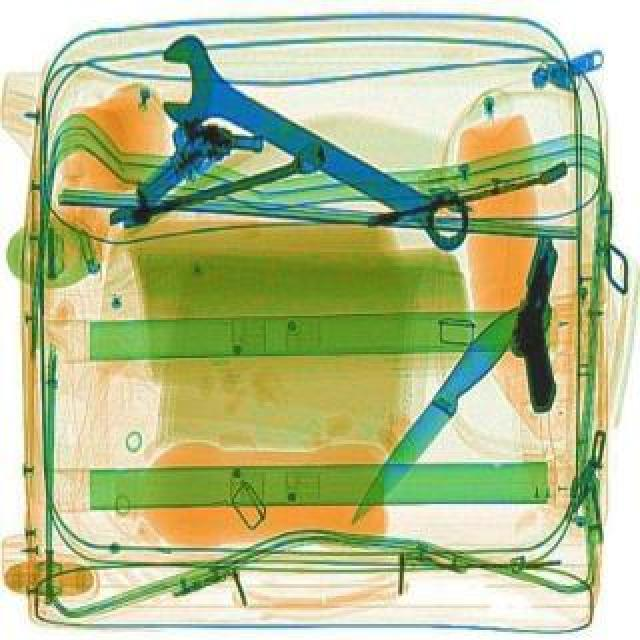gun: (114, 88, 270, 232), (490, 230, 598, 410)
knife: (336, 290, 536, 526)
scissors: (134, 26, 494, 262)
